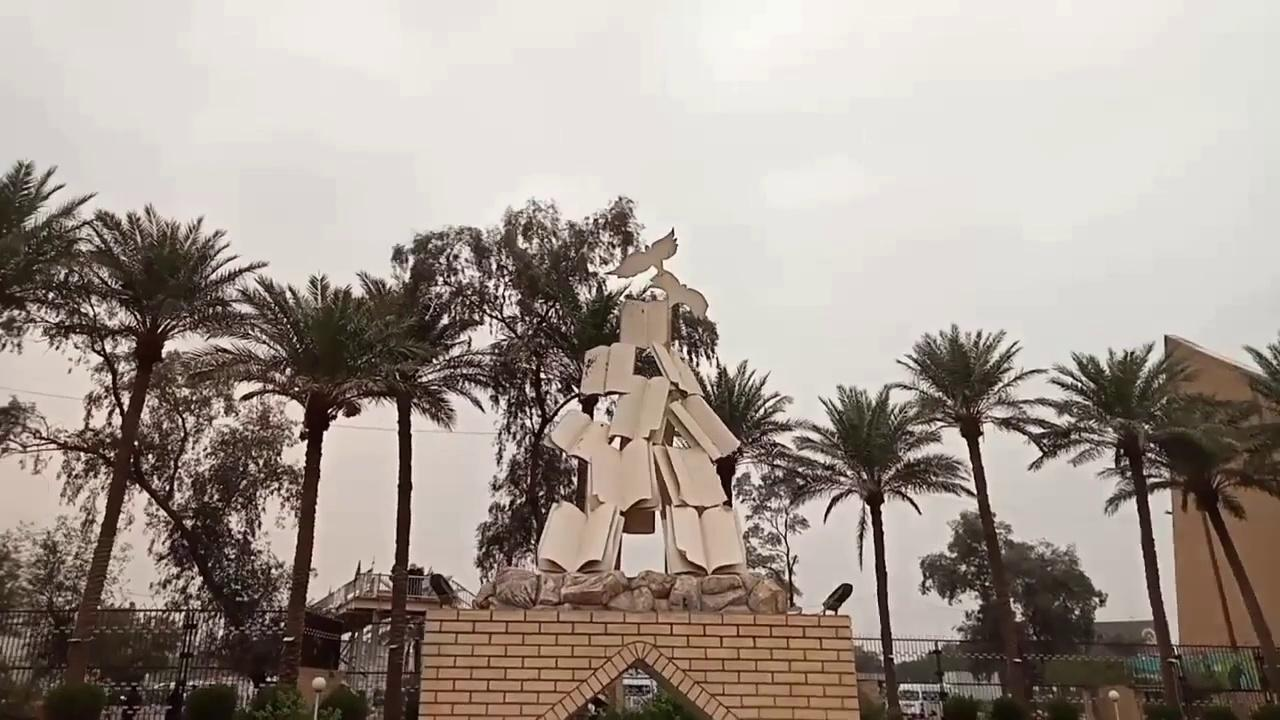tree: (5, 200, 271, 697), (179, 270, 425, 687), (391, 193, 649, 587), (1025, 340, 1216, 717), (771, 382, 974, 718), (888, 322, 1055, 710), (344, 266, 487, 718), (0, 156, 103, 676), (1140, 417, 1279, 702), (917, 507, 1107, 705), (685, 357, 805, 603), (0, 156, 99, 353), (1236, 333, 1279, 702), (1239, 334, 1279, 499), (1242, 334, 1279, 408)
